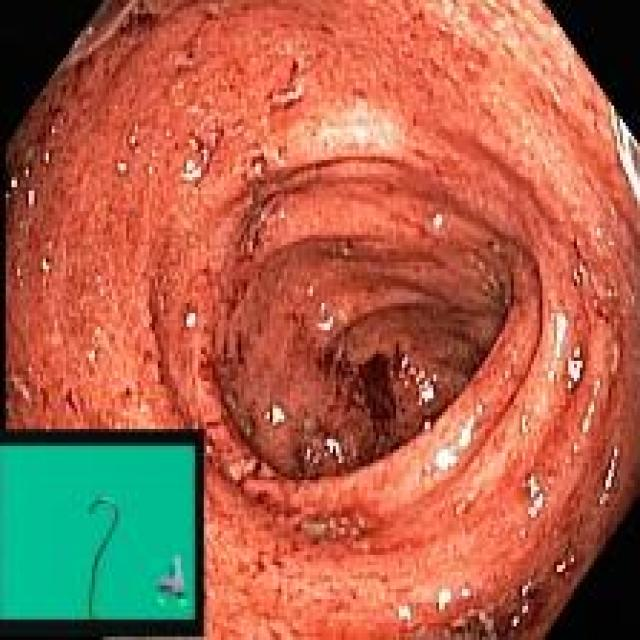ulcerative-colitis-grade-3: (8, 1, 640, 640)
